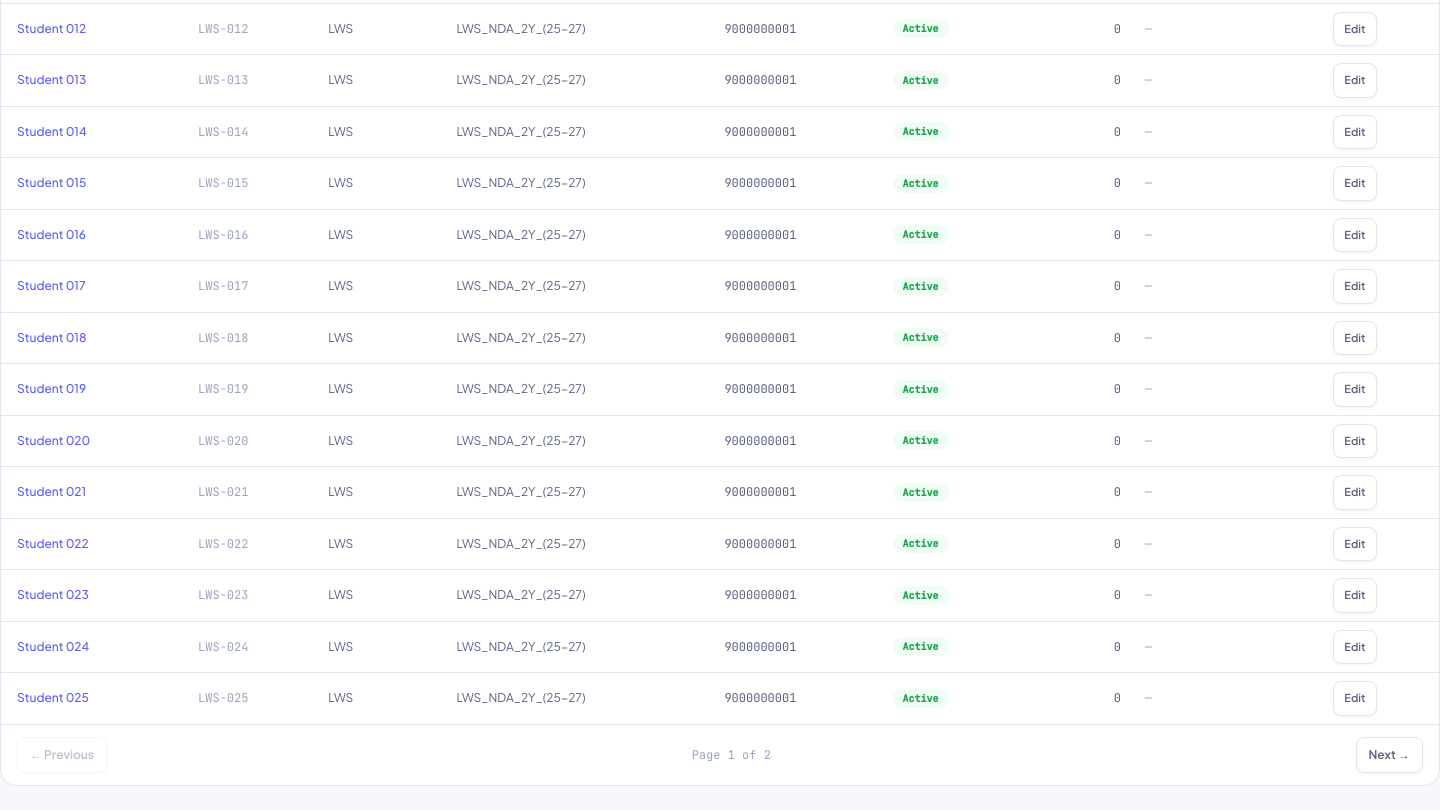
Test: StudentsTable — pagination › Next button moves to page 2
(page scrolled)
Step 1. Click the button "Next →" → point(1389, 754), box 1356,736 -> 1423,772
(page scrolled)
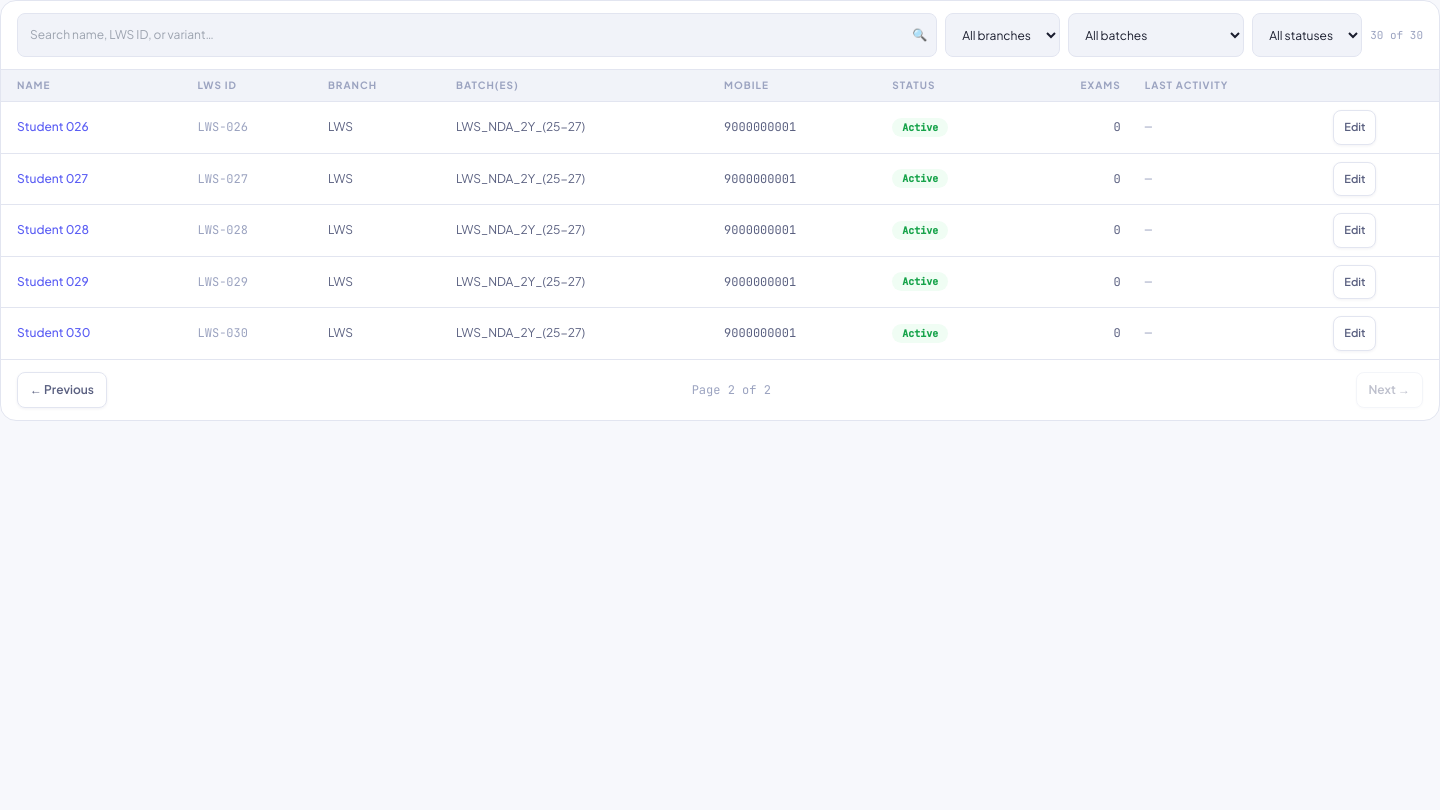
Check: the button "Student 026" is shown, box 17,118 -> 89,136
Check: the button "Student 030" is shown, box 17,324 -> 90,342
